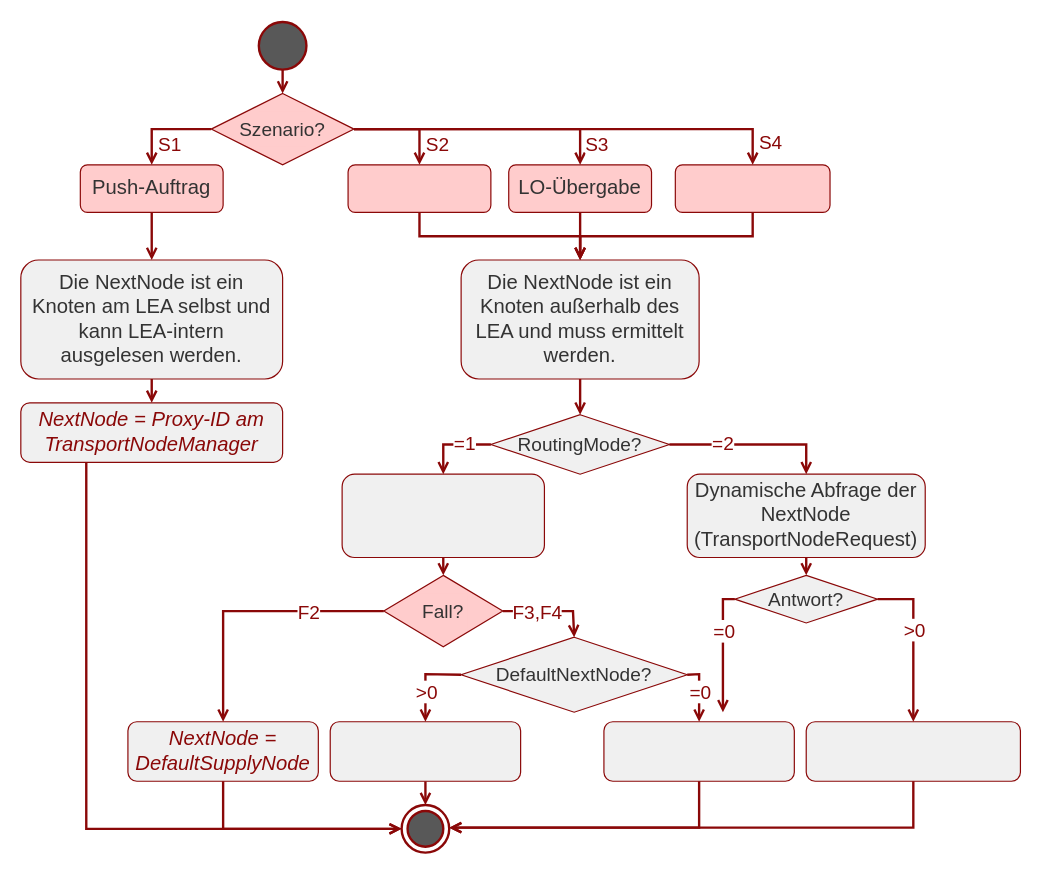
The diagram is 1041 pixels wide and 891 high, and some of its shapes have lost their labels. The centre of each missing label's shape, as x and y in pixels:
LO-Bearbeitung: [752,188]
NextNode = Antwort TransportNodeRequest: [912,751]
NextNode = DefaultNextNode: [425,751]
NextNode = FinalTargetNode: [698,751]
Nutzung statischer Defaultwerte für die NextNode: [442,515]
Pull-Auftrag: [419,188]
